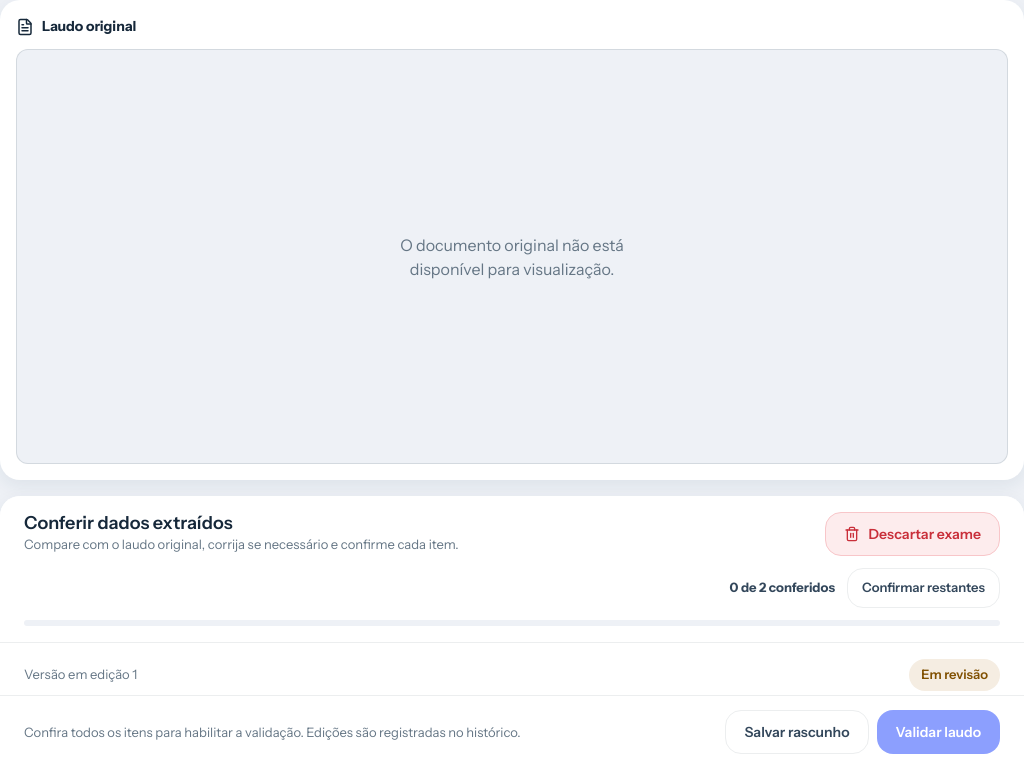
Scenario: exibe descarte no cabeçalho fixo somente quando a capacidade foi concedida
expect the header named "Ações da revisão" shows "Conferir dados extraídos": met, box [24,512,233,534]
Click the button "Descartar exame" at (913, 534), box [826,512,1000,556]
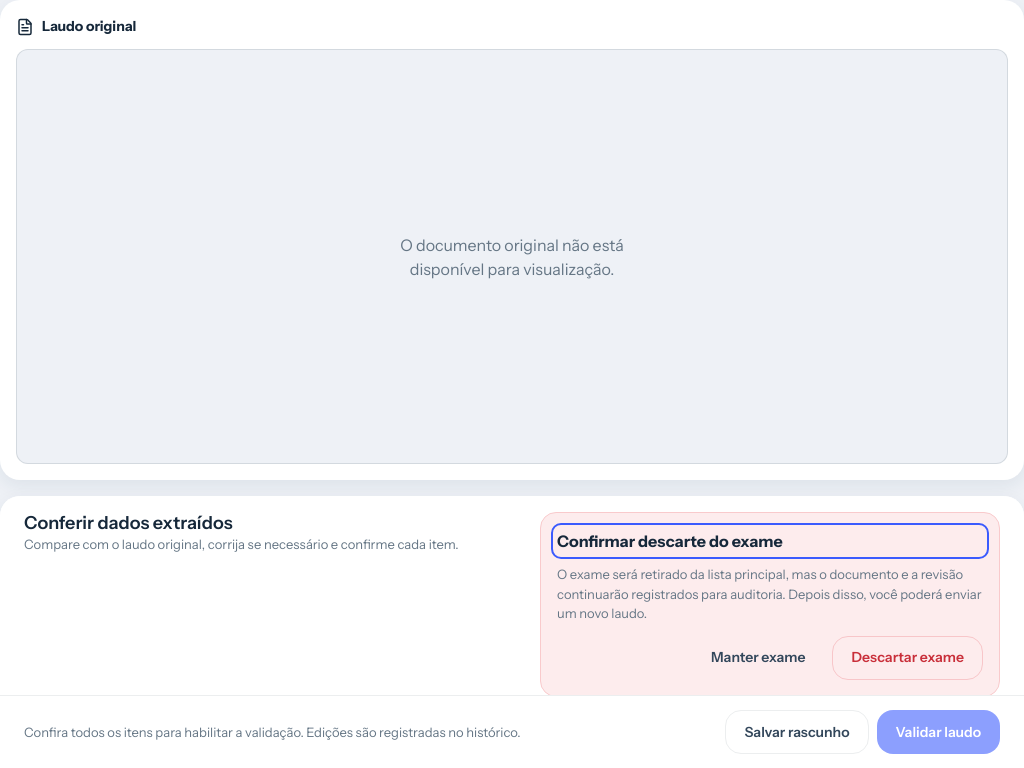
expect the element "Confirmar descarte do exame" is shown: met, box [540,512,1000,696]
